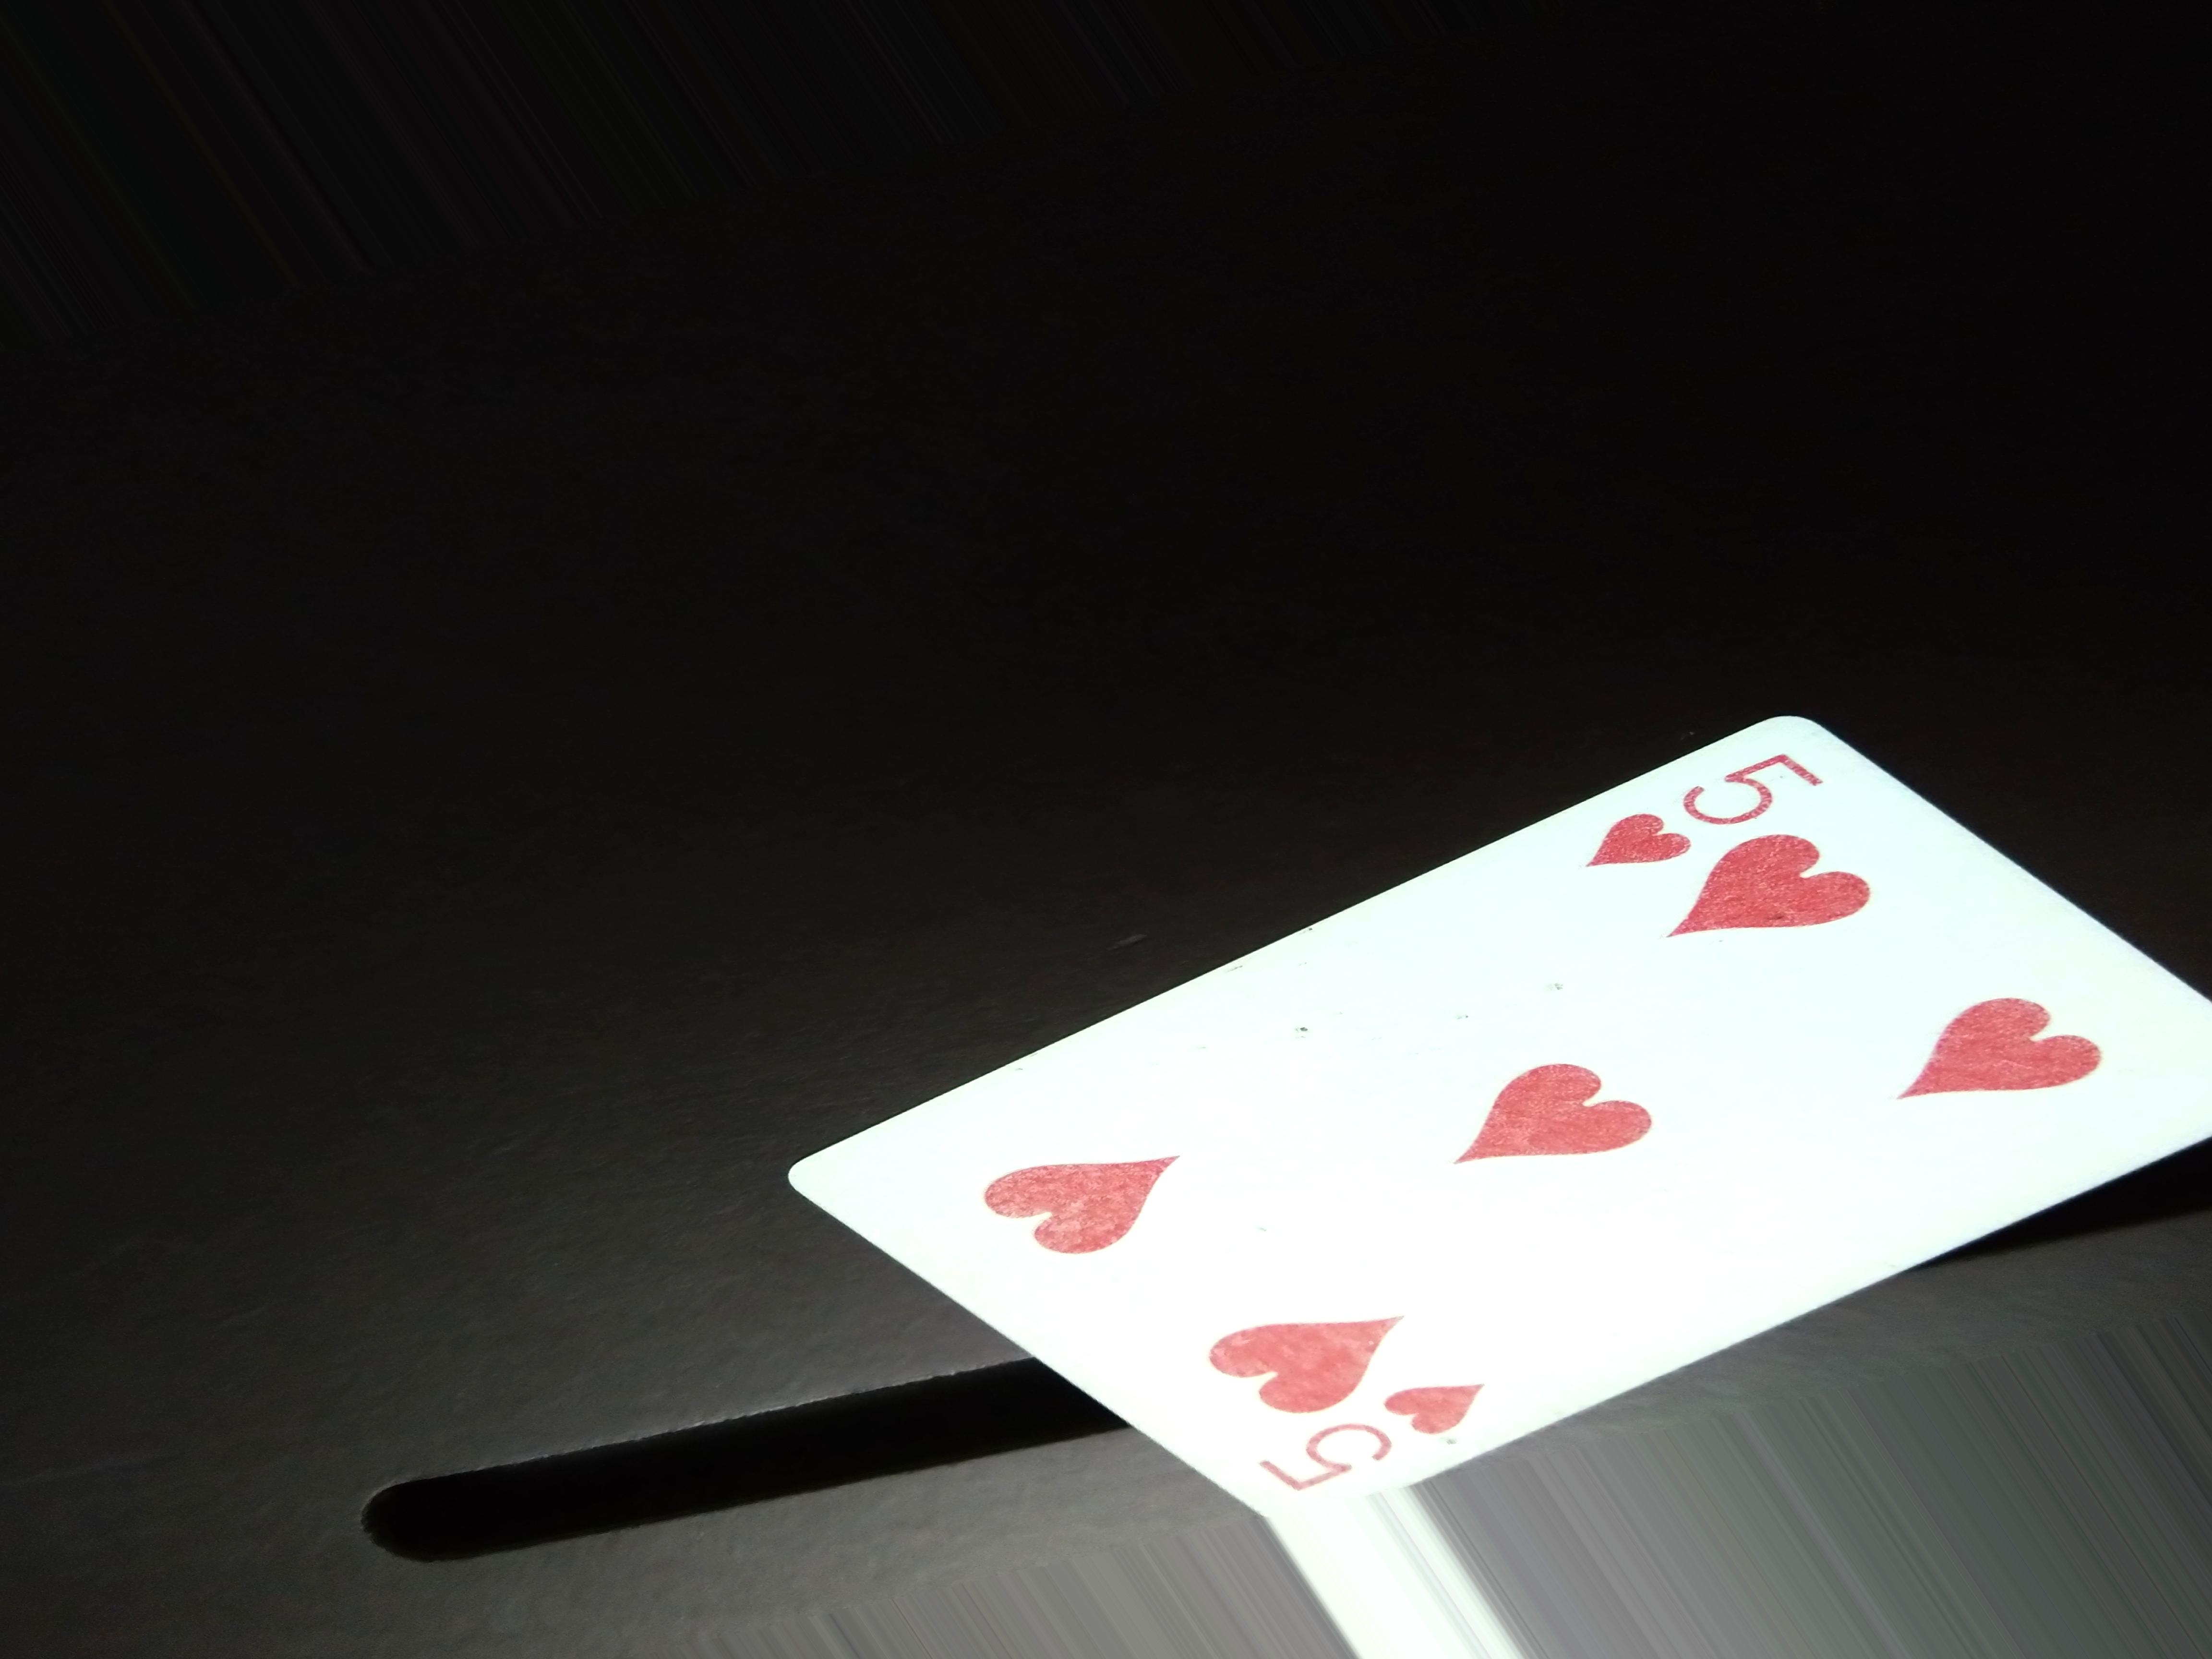5H: (1575, 718, 1817, 894)
